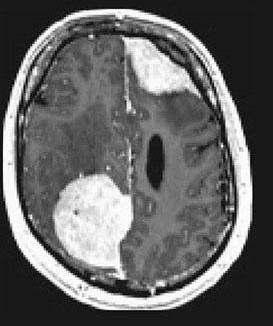Tumour-Meningioma: (31, 164, 157, 284)
